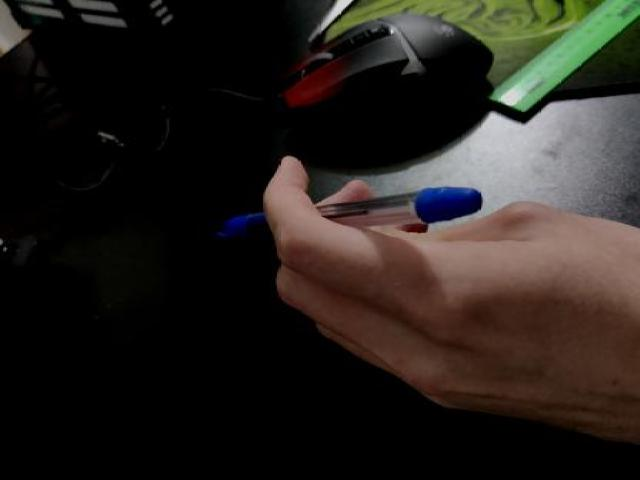PEN: (214, 177, 494, 250)
